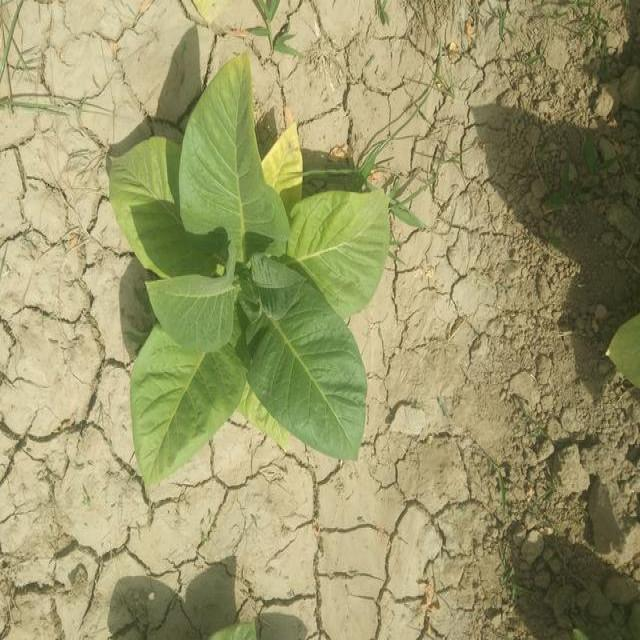crop: (124, 71, 386, 489)
